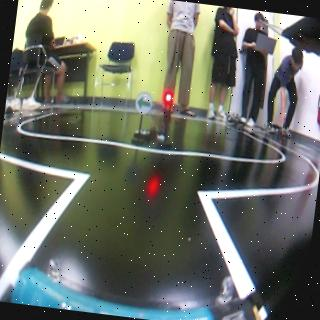left: (134, 90, 154, 114)
red: (158, 92, 172, 144)
